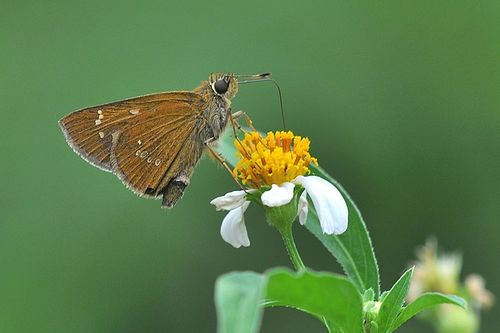Hesperiidae: (55, 68, 290, 211)
